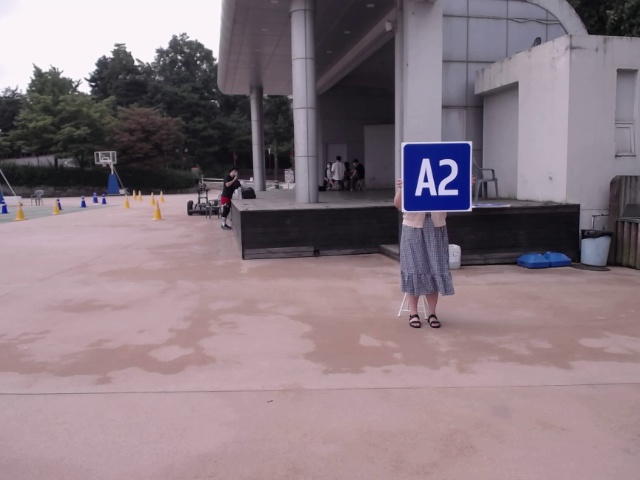delivery_a2: (402, 142, 471, 212)
